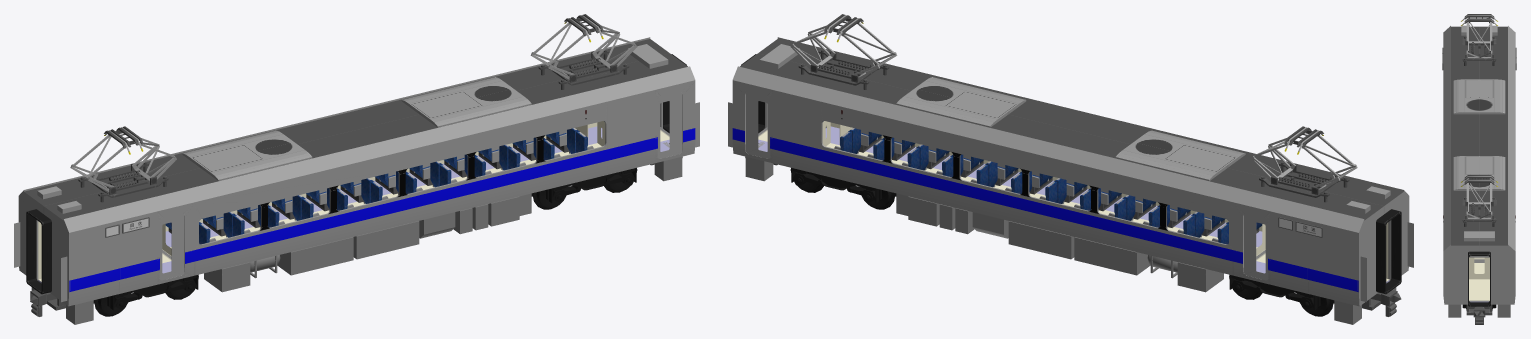
The picture shows the model from 3 angles, left to right: view 1: azimuth 30°, elevation 25°; view 2: azimuth 150°, elevation 25°; view 3: azimuth 270°, elevation 25°; orthographic projection. The views are drawn at different scales.
Visible parts, largest first — view 1: Body0_outer, AirCon, UF_equip, Seat, horo_UA, door.R, Floor, panto_0_front, panto_0_back, frame_out.001, frame_out, wheel (+6 smaller); view 2: Body0_outer, AirCon, UF_equip, Seat, horo_UA, door.L, Floor, panto_0_back, panto_0_front, frame_out.001, frame_out, wheel (+6 smaller); view 3: Body0_outer, AirCon, Floor, panto_0_back, panto_0_front, UF_equip, Coupler, C_door.C, horo, panto_3_back, panto_3_front, panto_1b_back (+6 smaller).
Boxes of the visible parts, x1,y1,x2,y2 form: Body0_outer: [18, 37, 695, 306]; AirCon: [37, 44, 668, 213]; UF_equip: [31, 157, 682, 324]; Seat: [165, 128, 593, 244]; horo_UA: [14, 209, 67, 302]; door.R: [159, 92, 682, 280]; Floor: [38, 126, 669, 283]; panto_0_front: [538, 49, 629, 89]; panto_0_back: [78, 161, 168, 202]; frame_out.001: [107, 275, 198, 310]; frame_out: [546, 168, 636, 203]; wheel: [531, 168, 637, 209]; Body0_outer: [732, 37, 1409, 306]; AirCon: [759, 44, 1390, 213]; UF_equip: [745, 157, 1396, 324]; Seat: [834, 128, 1262, 244]; horo_UA: [1360, 209, 1413, 302]; door.L: [745, 92, 1268, 280]; Floor: [758, 126, 1389, 283]; panto_0_back: [1259, 161, 1349, 202]; panto_0_front: [798, 49, 889, 89]; frame_out.001: [1229, 275, 1320, 310]; frame_out: [791, 168, 881, 203]; wheel: [790, 168, 896, 209]; Body0_outer: [1443, 26, 1515, 304]; AirCon: [1453, 25, 1505, 241]; Floor: [1469, 257, 1489, 302]; panto_0_back: [1462, 36, 1496, 65]; panto_0_front: [1462, 197, 1496, 226]; UF_equip: [1448, 304, 1510, 317]; Coupler: [1466, 304, 1492, 324]; C_door.C: [1469, 257, 1489, 279]; horo: [1468, 251, 1490, 306]; panto_3_back: [1461, 14, 1497, 25]; panto_3_front: [1461, 175, 1497, 186]; panto_1b_back: [1466, 22, 1492, 44].
Size of the model in its own units: 21 by 5.19 by 2.86.
